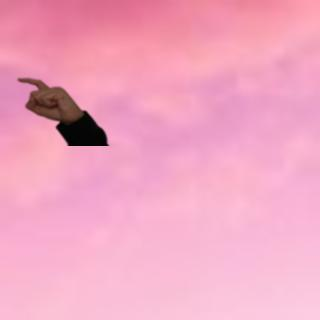WHY: (12, 73, 81, 120)
